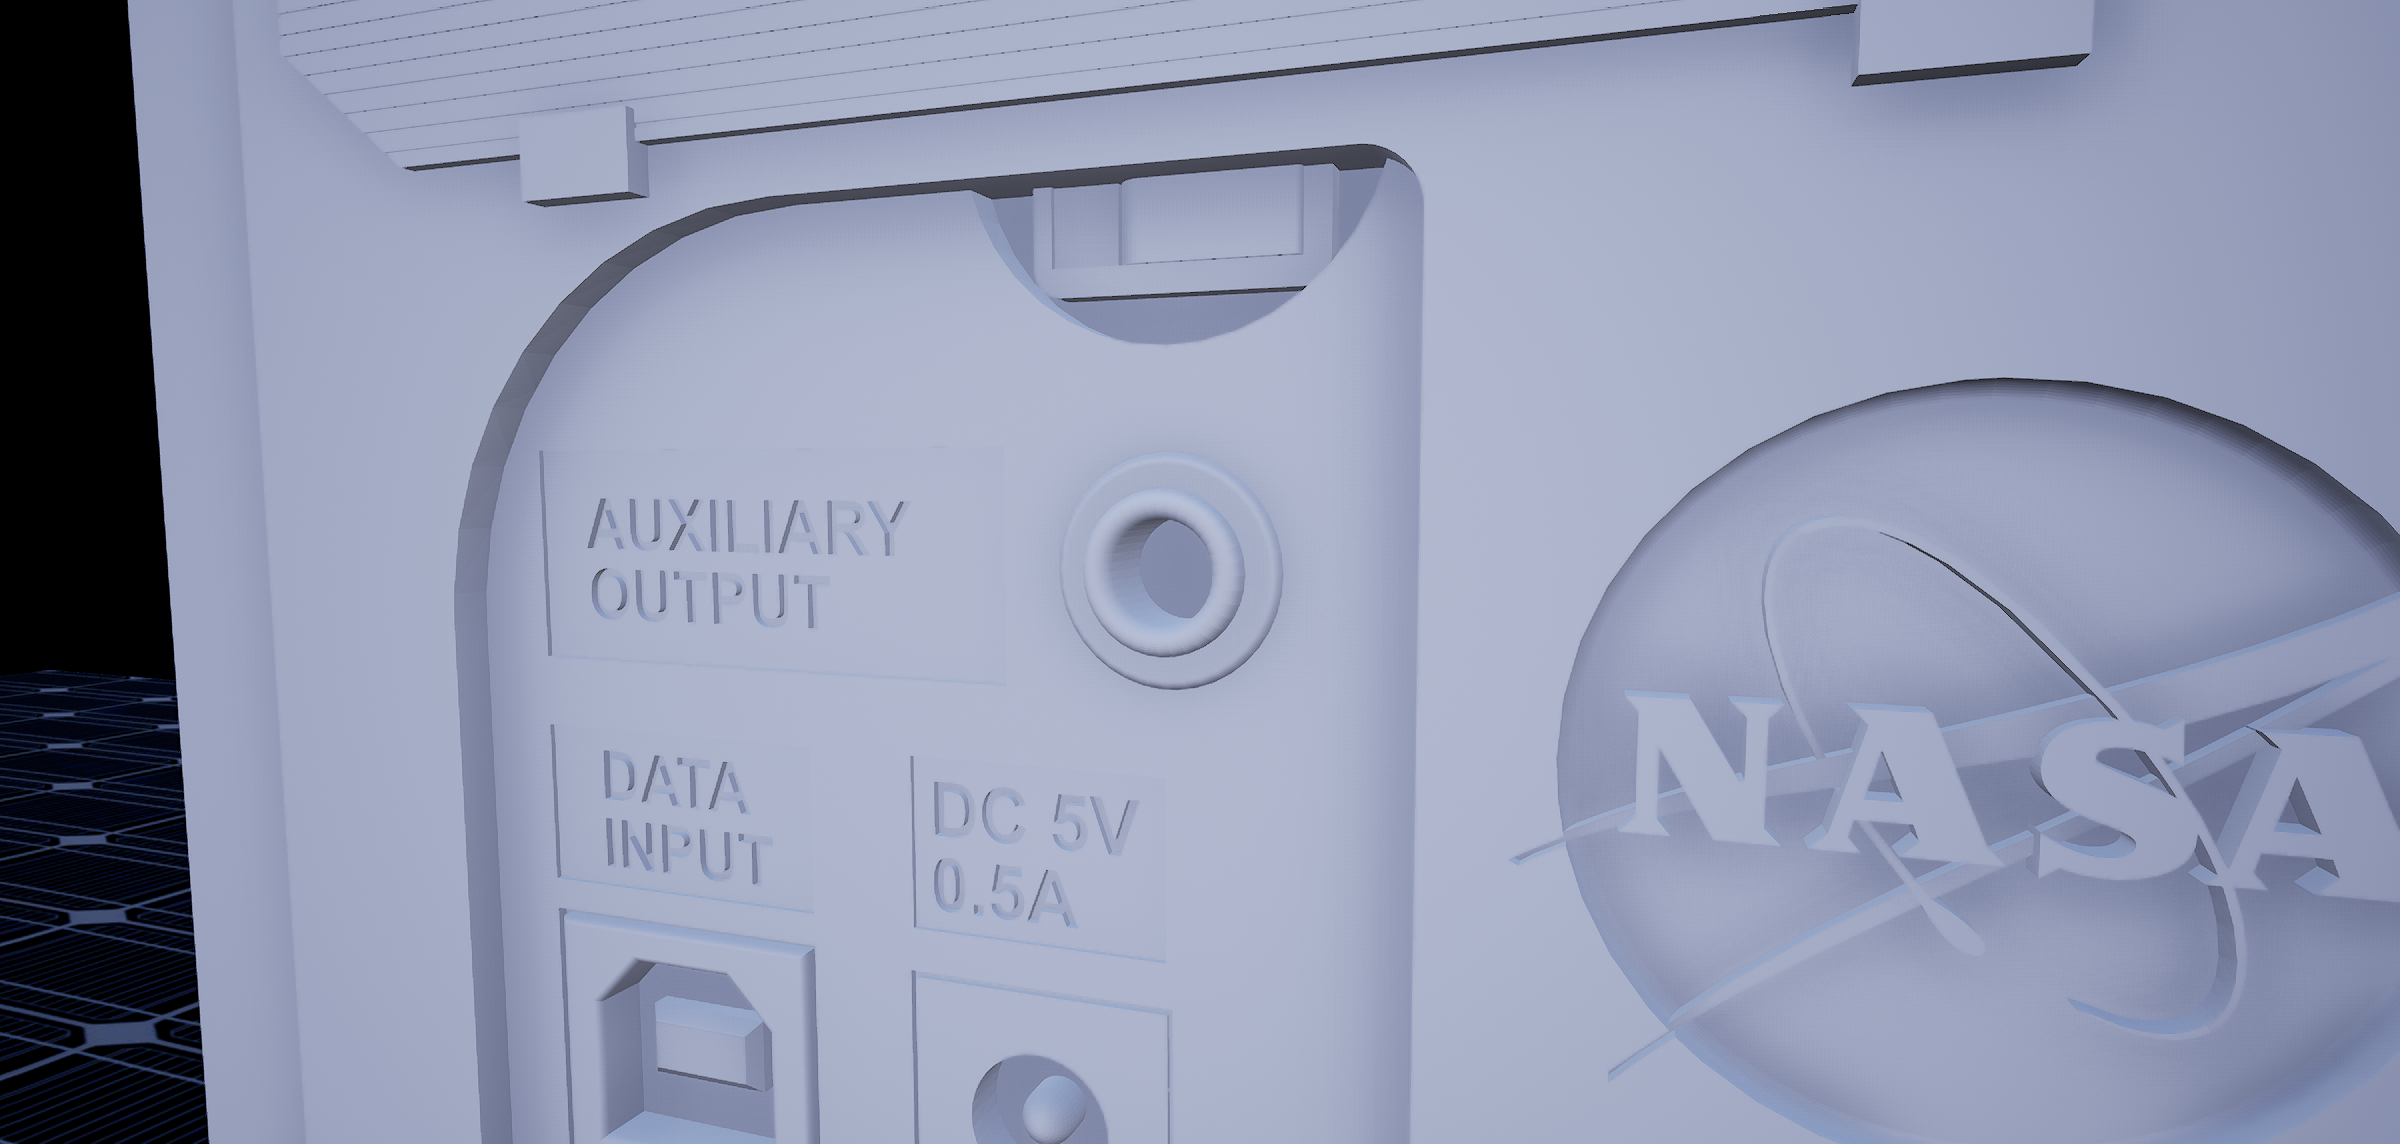aux: (1038, 433, 1299, 701)
dc: (961, 1041, 1123, 1144)
usb: (594, 950, 784, 1144)
